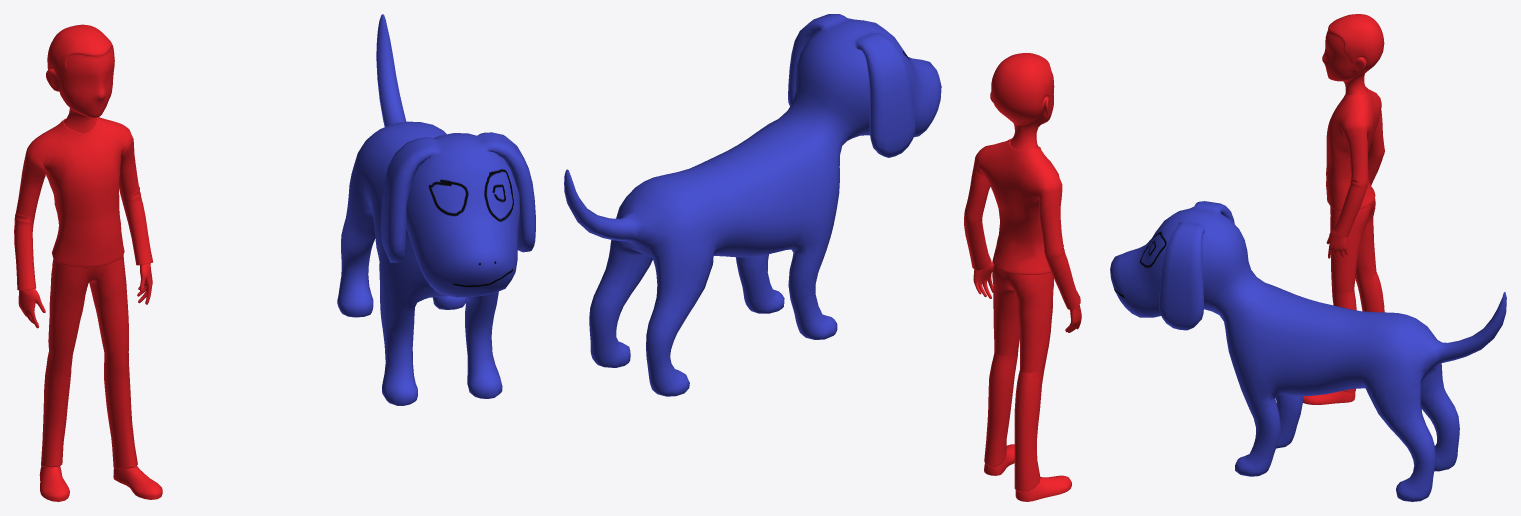
3 views of the same model, side by side, from view 1: azimuth 30°, elevation 25°; view 2: azimuth 150°, elevation 25°; view 3: azimuth 270°, elevation 25° (orthographic). The views are drawn at different scales.
Visible parts, largest first — view 1: mesh_id33, mesh_id47; view 2: mesh_id33, mesh_id47; view 3: mesh_id33, mesh_id47.
Boxes of the visible parts, x1,y1,x2,y2 form: mesh_id33: [337, 14, 535, 405]; mesh_id47: [14, 24, 162, 501]; mesh_id33: [564, 14, 941, 396]; mesh_id47: [964, 53, 1081, 501]; mesh_id33: [1110, 201, 1506, 501]; mesh_id47: [1303, 14, 1384, 404].
Bounding box in the file's own units: 1.05 × 0.9466 × 0.926.
Materials: 2 (2 with a texture image).
